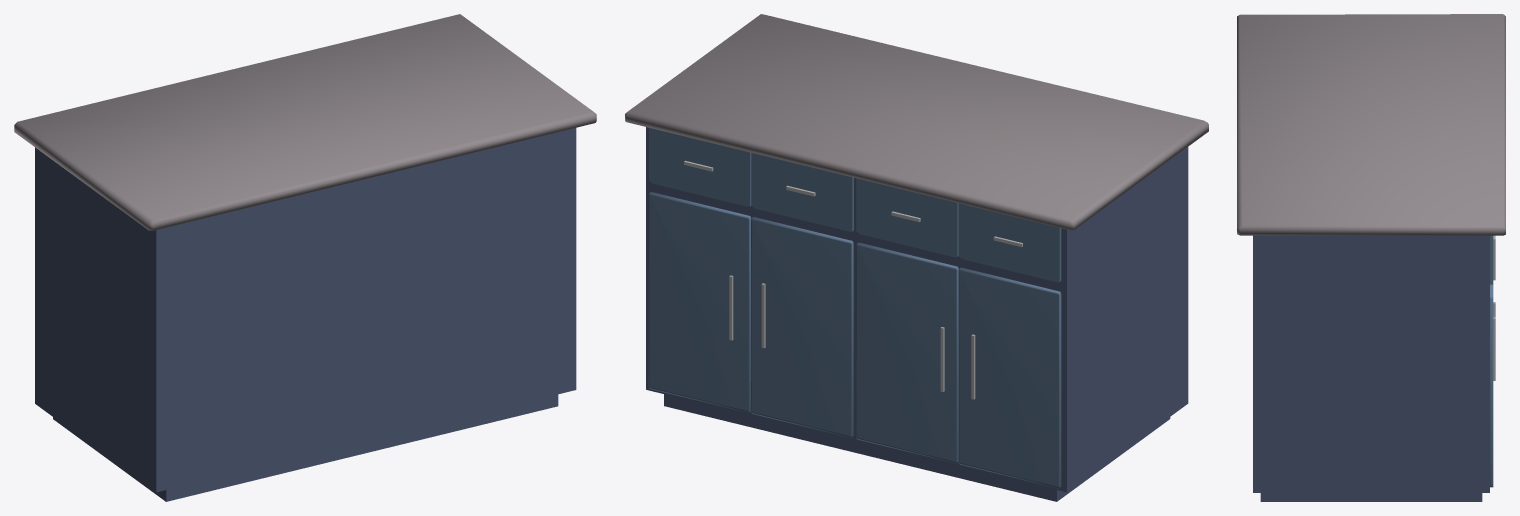
File: chemistry_table.fbx
3 renders of one model, left to right at view 1: azimuth 30°, elevation 25°; view 2: azimuth 150°, elevation 25°; view 3: azimuth 270°, elevation 25°, orthographic. The views are drawn at different scales.
Visible parts, largest first — view 1: Table, Tabletop; view 2: Tabletop, Table, cabinetDoor04, cabinetDoor02, cabinetDoor03, cabinetDoor01, Drawer04, Drawer03, Drawer02, Drawer01; view 3: Table, Tabletop, cabinetDoor01.
Boxes of the visible parts, box(x1,y1,x2,y2) form: Table: box(35, 128, 576, 501); Tabletop: box(14, 14, 596, 230); Tabletop: box(625, 14, 1208, 230); Table: box(646, 127, 1188, 501); cabinetDoor04: box(958, 267, 1061, 488); cabinetDoor02: box(751, 217, 853, 437); cabinetDoor03: box(856, 242, 958, 463); cabinetDoor01: box(648, 192, 751, 412); Drawer04: box(958, 203, 1061, 282); Drawer03: box(856, 178, 958, 257); Drawer02: box(751, 152, 853, 231); Drawer01: box(649, 128, 751, 206); Table: box(1253, 235, 1489, 501); Tabletop: box(1237, 14, 1505, 235); cabinetDoor01: box(1490, 284, 1495, 487).
Bounding box in the file's own units: 160 × 101 × 85.
